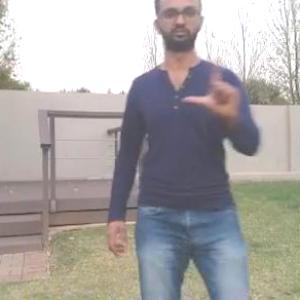land_hand: (180, 48, 244, 128)
